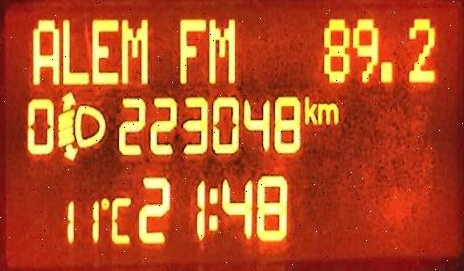-: (378, 59, 393, 83)
0: (26, 96, 54, 154), (211, 94, 239, 152)
1: (194, 178, 205, 240), (90, 199, 99, 244), (65, 199, 74, 244)
2: (137, 174, 170, 243), (408, 17, 436, 82), (148, 96, 177, 154), (117, 96, 145, 155)
3: (181, 94, 208, 153)
4: (219, 177, 252, 239), (242, 97, 269, 151)
8: (255, 174, 288, 241), (321, 16, 350, 83), (272, 95, 301, 153)
9: (351, 17, 378, 83)
X: (178, 17, 207, 84), (207, 17, 236, 83), (120, 17, 148, 84), (32, 17, 60, 84), (91, 17, 119, 83), (62, 17, 88, 83), (110, 195, 131, 243), (316, 100, 339, 125), (207, 185, 218, 232), (302, 94, 317, 124)
